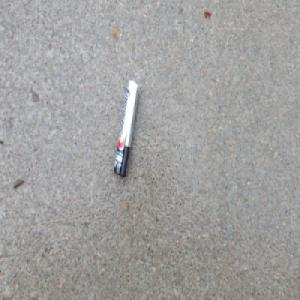Battery: (112, 79, 140, 179)
